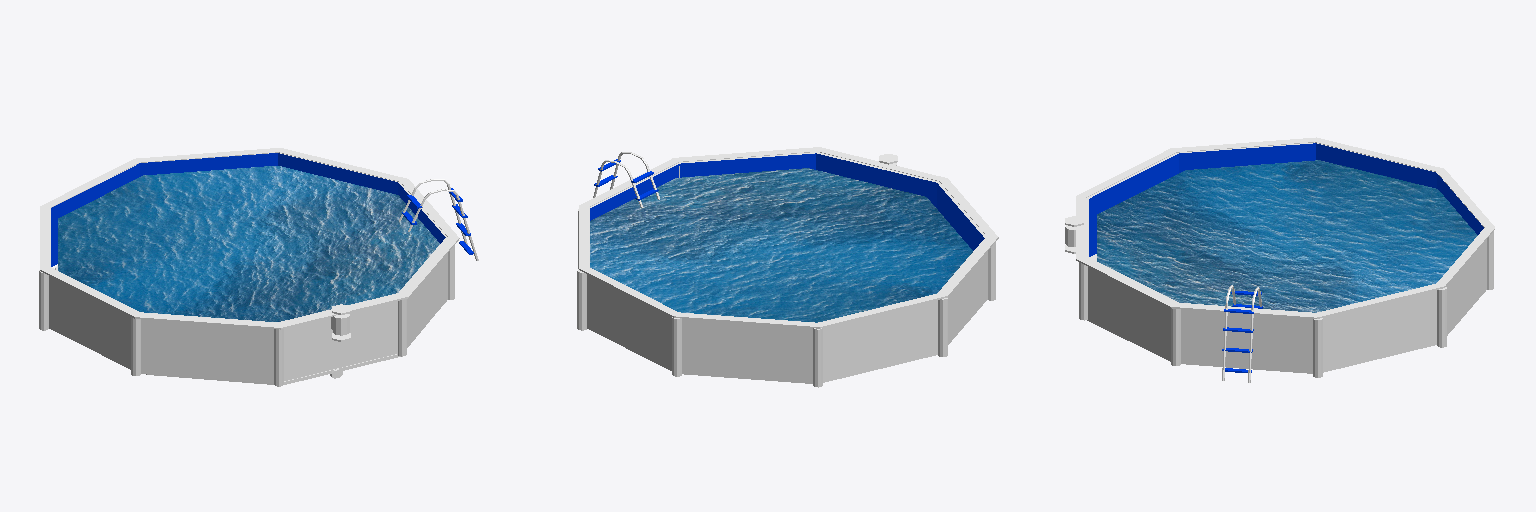
The picture shows the model from 3 angles: view 1: azimuth 30°, elevation 25°; view 2: azimuth 150°, elevation 25°; view 3: azimuth 270°, elevation 25°; orthographic projection.
Parts seen in each view (by area): view 1: territoryDecor_waterdecorr_obj; view 2: territoryDecor_waterdecorr_obj; view 3: territoryDecor_waterdecorr_obj.
Boxes of the visible parts, <box> form: territoryDecor_waterdecorr_obj: <box>39,148,478,386</box>; territoryDecor_waterdecorr_obj: <box>577,147,998,387</box>; territoryDecor_waterdecorr_obj: <box>1065,137,1494,382</box>.
Bounding box in the file's own units: 4.55 × 1 × 4.29.
3 materials, 1 textured.